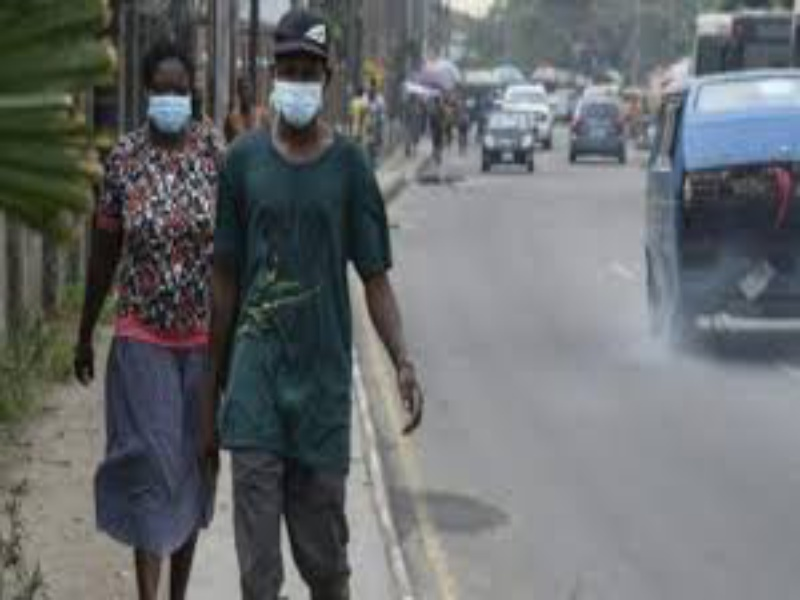ManaoArotava: (258, 7, 340, 141), (133, 51, 204, 140)
